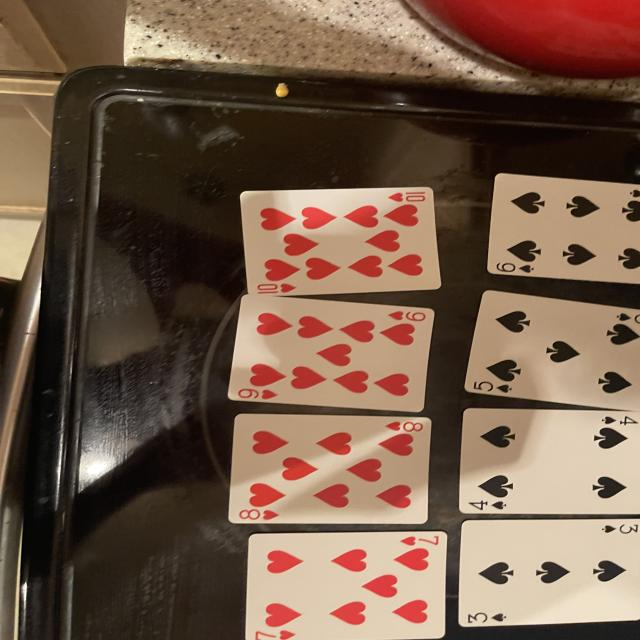10 of hearts: (240, 188, 440, 295)
3 of spades: (458, 520, 638, 628)
4 of spades: (460, 408, 638, 514)
5 of spades: (465, 290, 640, 410)
6 of spades: (487, 174, 640, 284)
7 of hearts: (245, 531, 447, 640)
8 of hearts: (228, 414, 432, 524)
9 of hearts: (228, 295, 435, 411)
